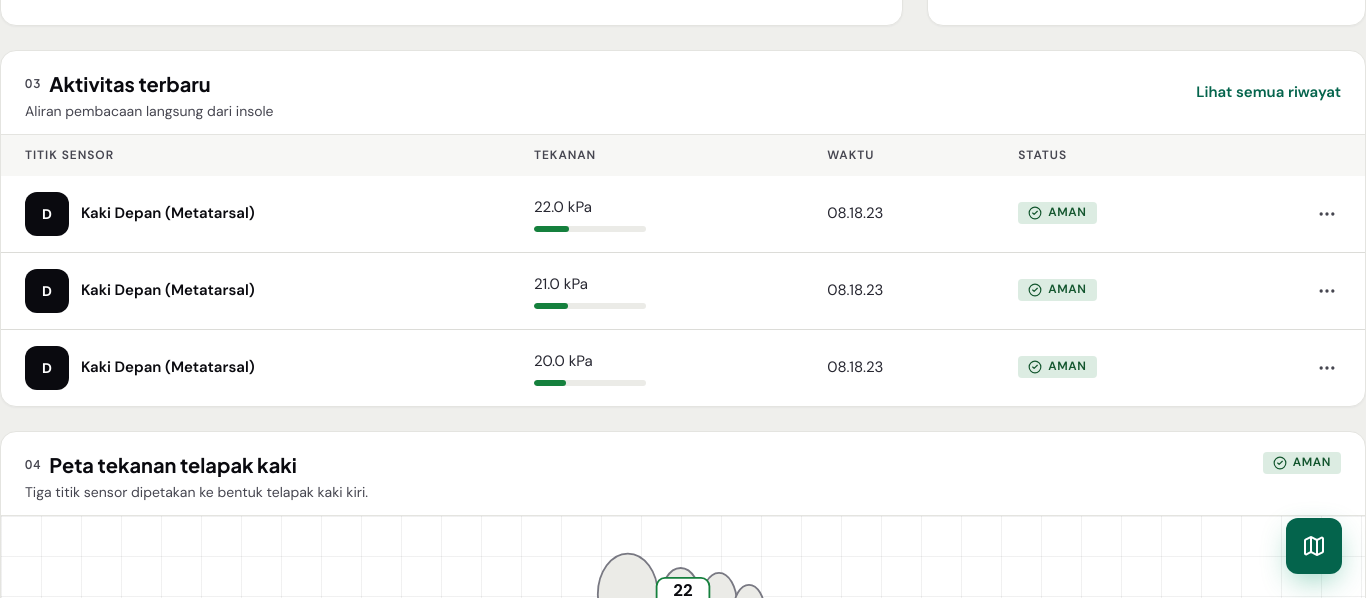
Test: DashboardPage controls › closes the row menu on Escape
The image size is (1366, 598).
(page scrolled)
Click the 1st button named "aksi" at (1327,214), box [1305,192,1349,236]
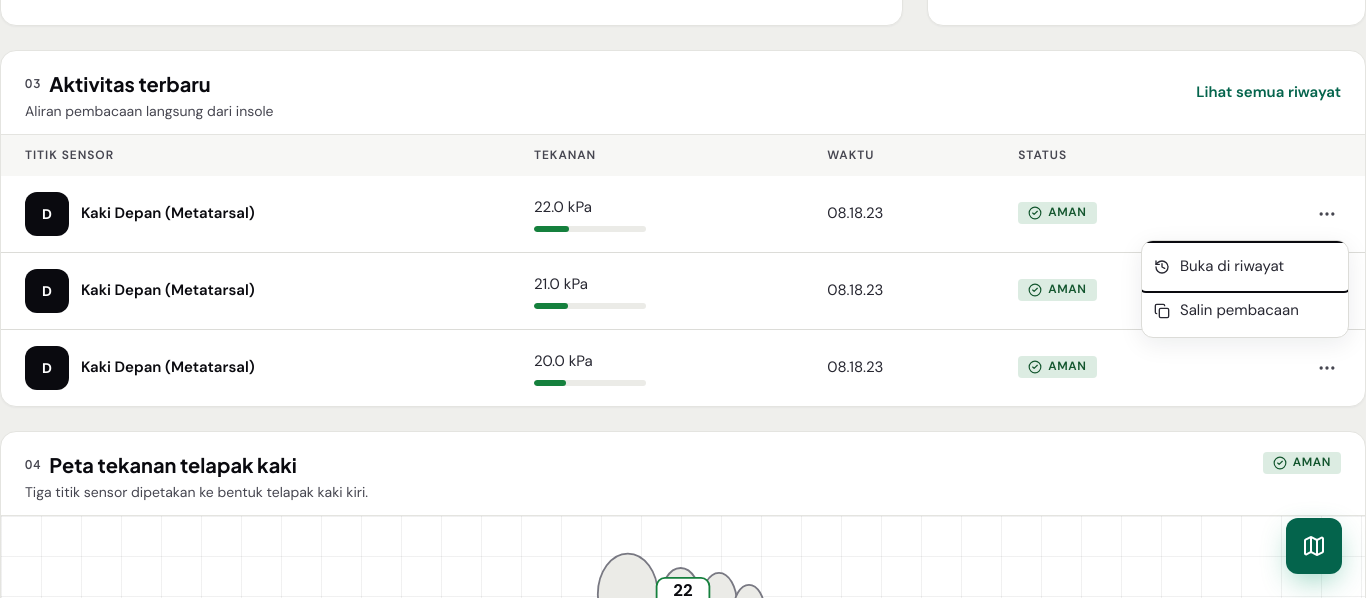
Expected: the menu is shown, [1141,240,1349,338]
Press Escape
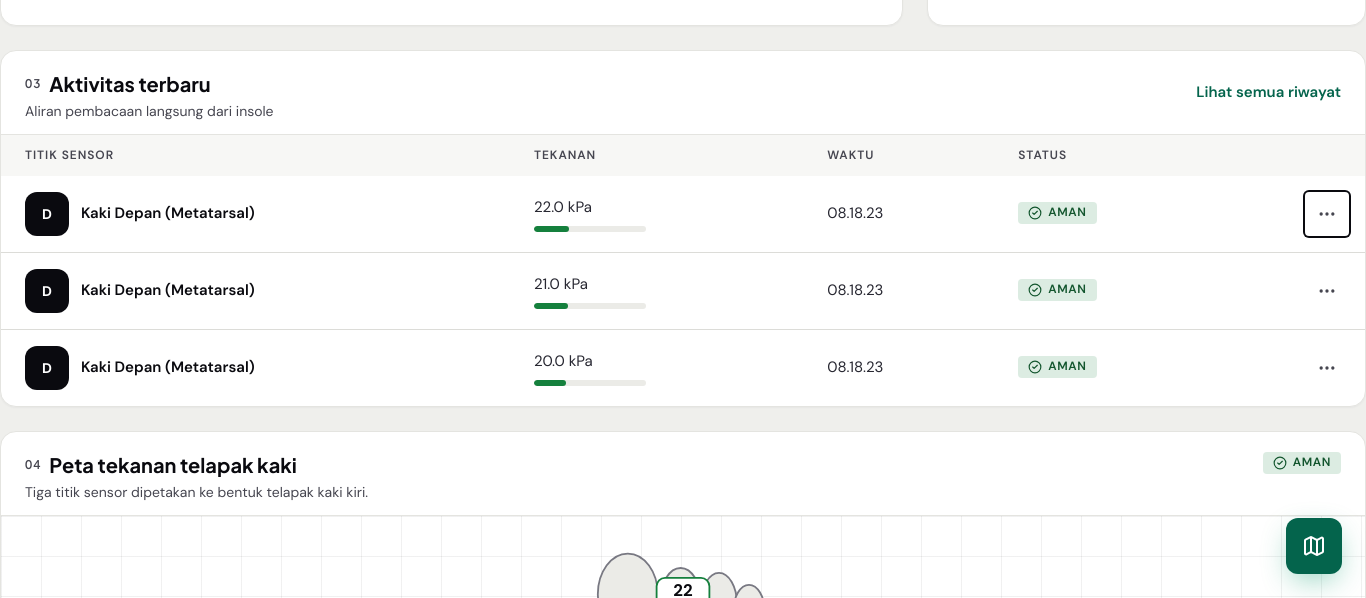
Expected: the menu is gone
